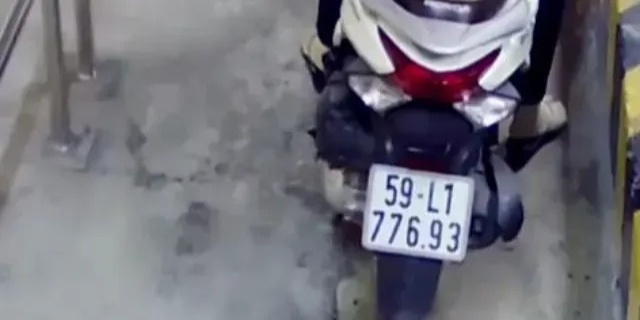bien_so: (361, 166, 472, 260)
